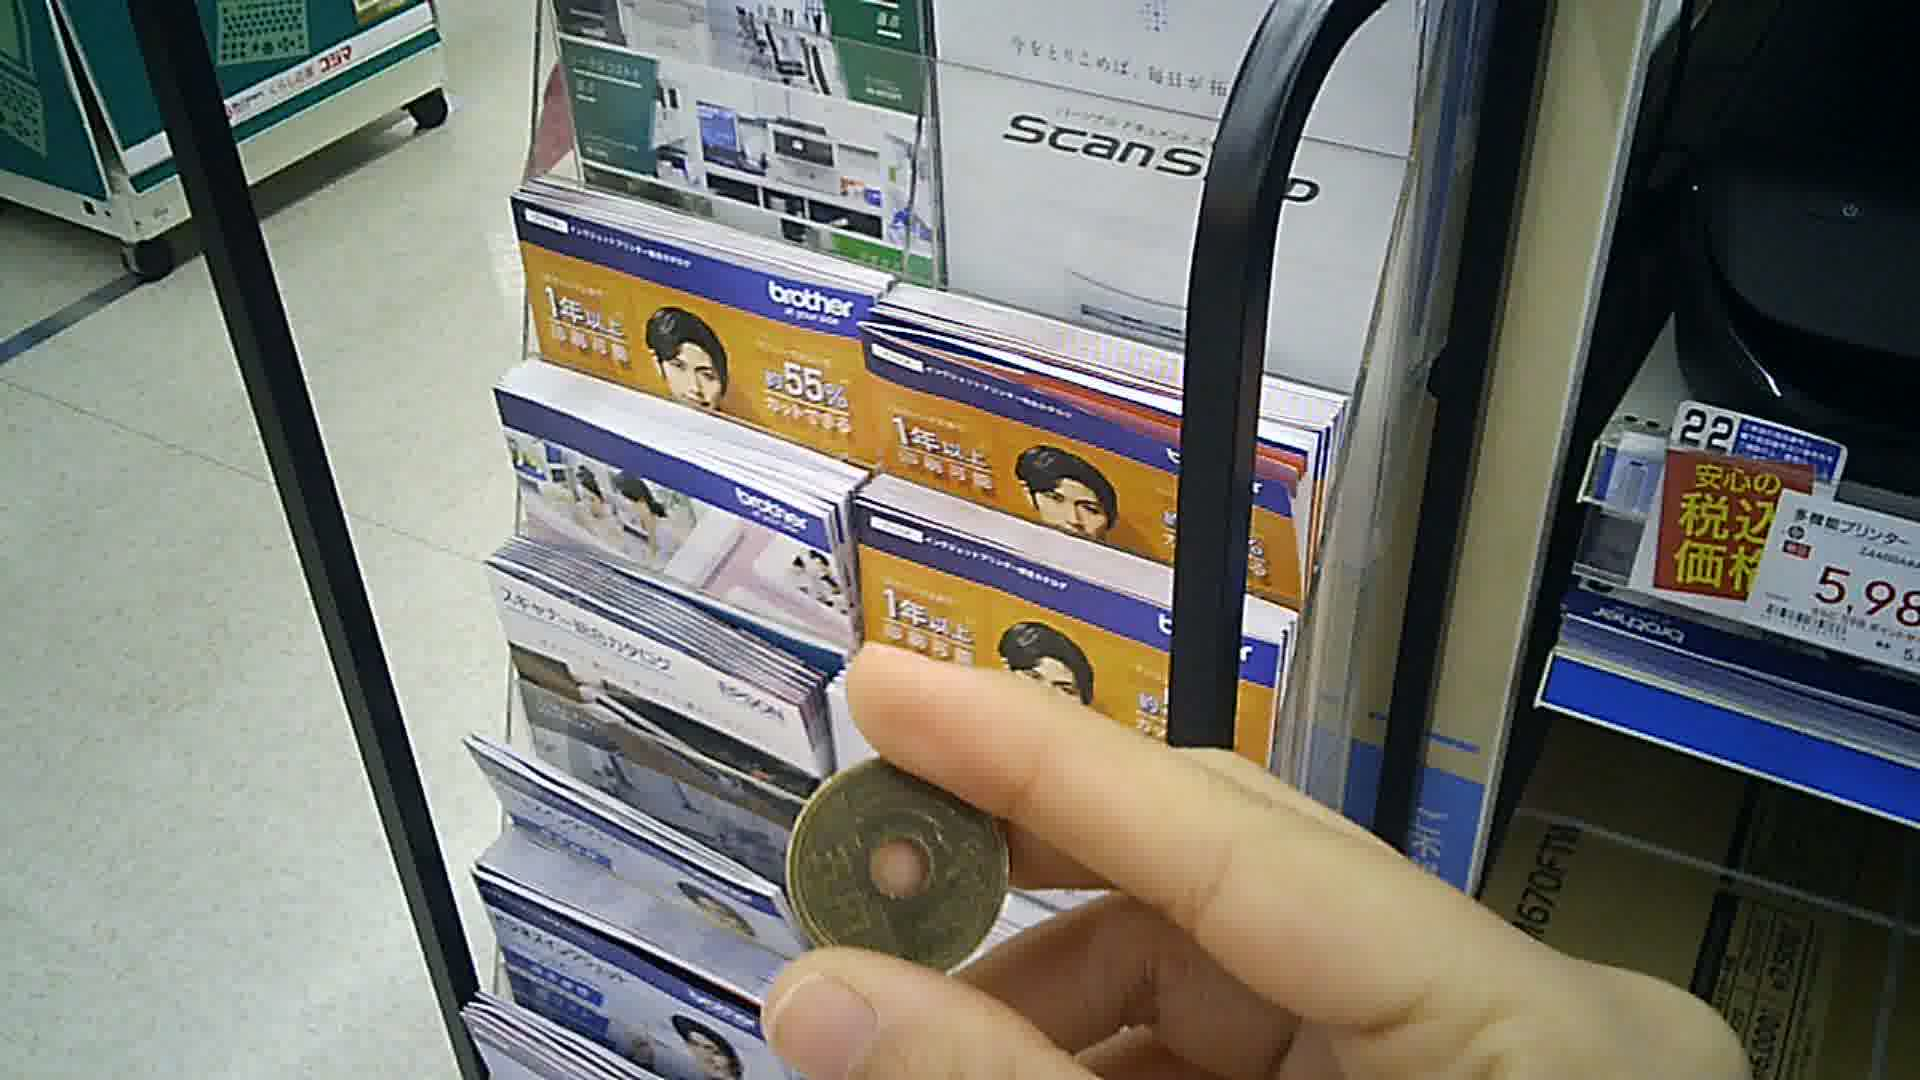5 Yen: (789, 753, 1009, 981)
